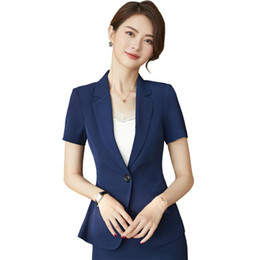F_W_suit jacket: (63, 71, 195, 235)
